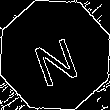N_N: (28, 24, 82, 86)
